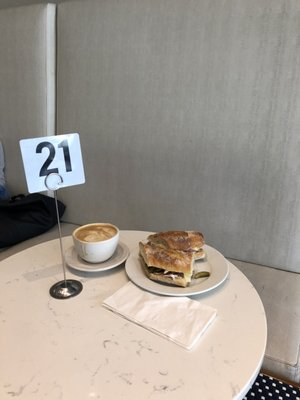sushi: (72, 222, 120, 264)
